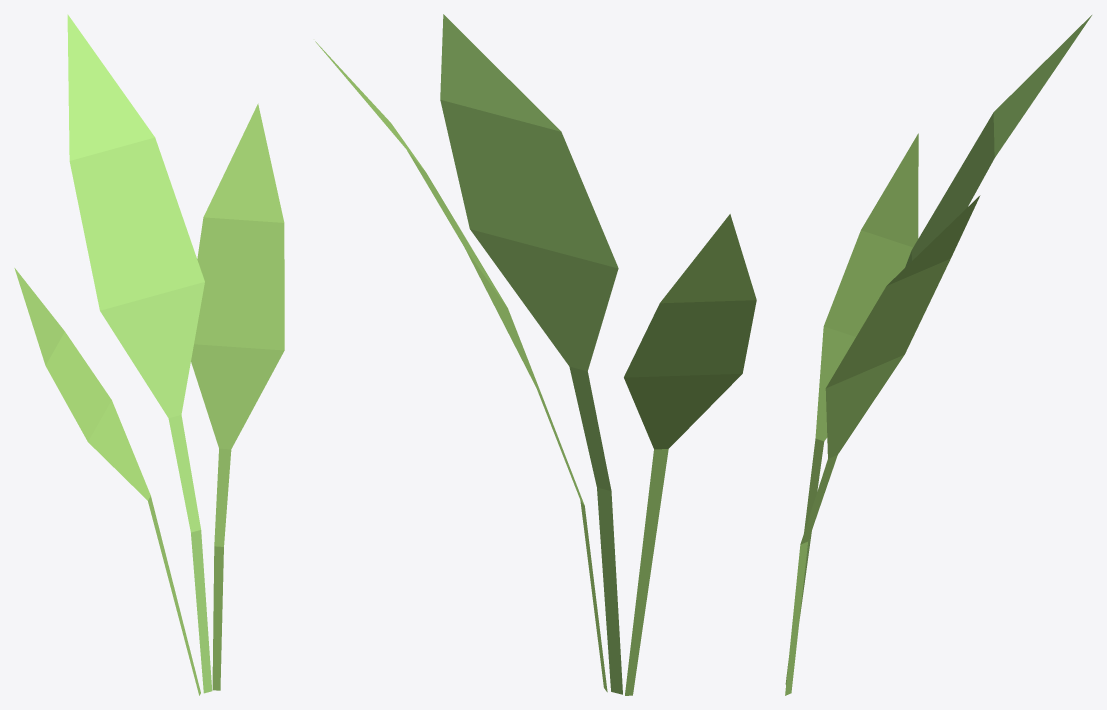
The model's file is Plant_g_TwoS_03.fbx.
The picture shows the model from 3 angles, left to right: view 1: azimuth 30°, elevation 25°; view 2: azimuth 150°, elevation 25°; view 3: azimuth 270°, elevation 25°; orthographic projection. The views are drawn at different scales.
Visible parts, largest first — view 1: Plant_g_TwoS_03; view 2: Plant_g_TwoS_03; view 3: Plant_g_TwoS_03.
Part boxes in pixels (box(x1,y1,x2,y2)): Plant_g_TwoS_03: box(14, 14, 284, 695); Plant_g_TwoS_03: box(315, 14, 756, 695); Plant_g_TwoS_03: box(785, 15, 1091, 695).
Bounding box in the file's own units: 0.2868 × 0.5908 × 0.2455.
